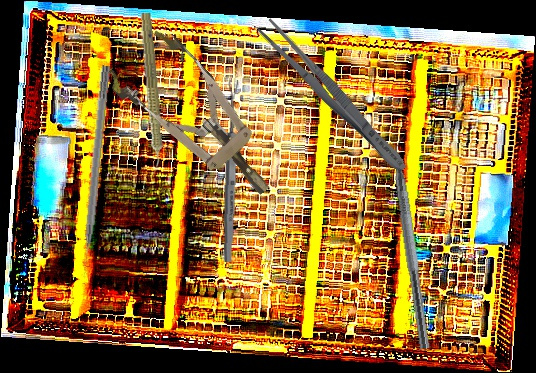Chopper: (384, 128, 446, 350)
Dressing Forceps: (254, 15, 413, 178)
Handpiece: (133, 12, 169, 176)
Pusher: (76, 64, 112, 280)
Speculum: (101, 22, 295, 220)
Surgical Spoon: (221, 79, 241, 263)
